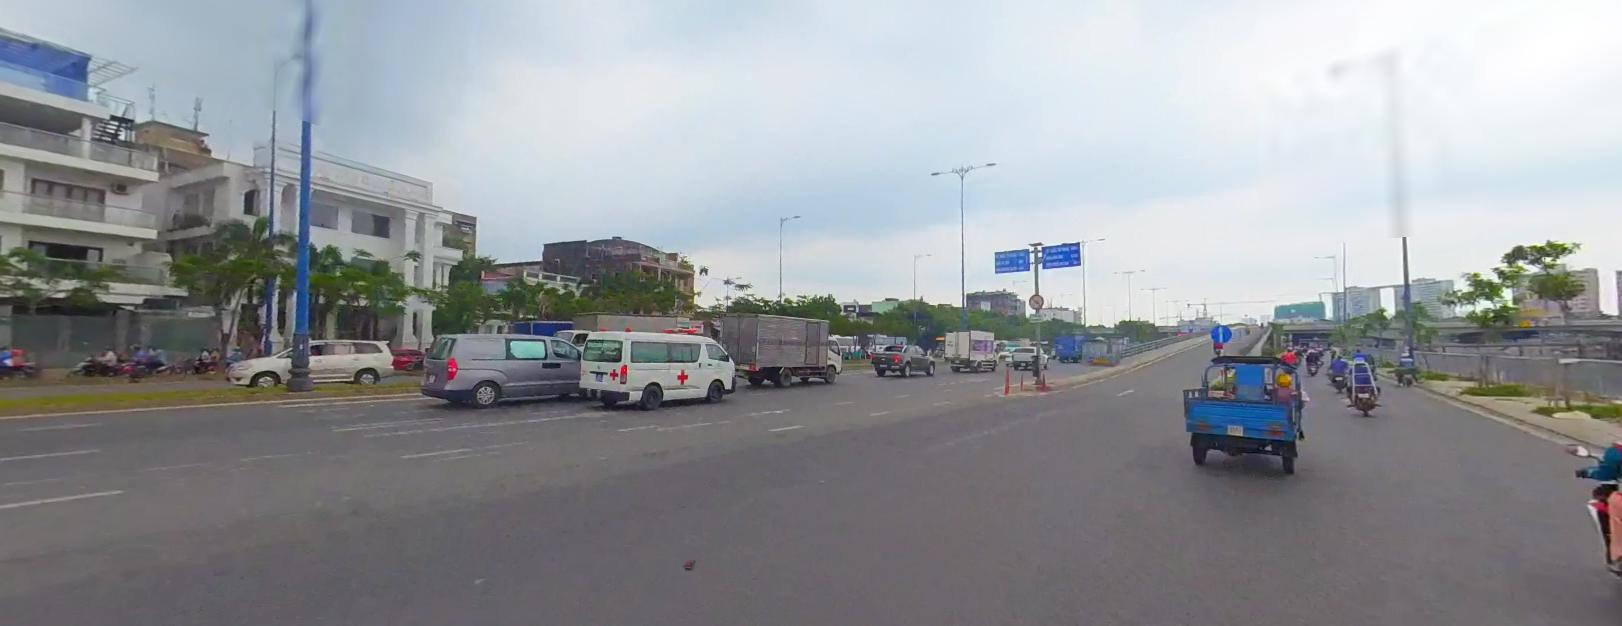Cam con lai: (1027, 292, 1043, 306)
Hieu lenh: (1208, 322, 1231, 342)
